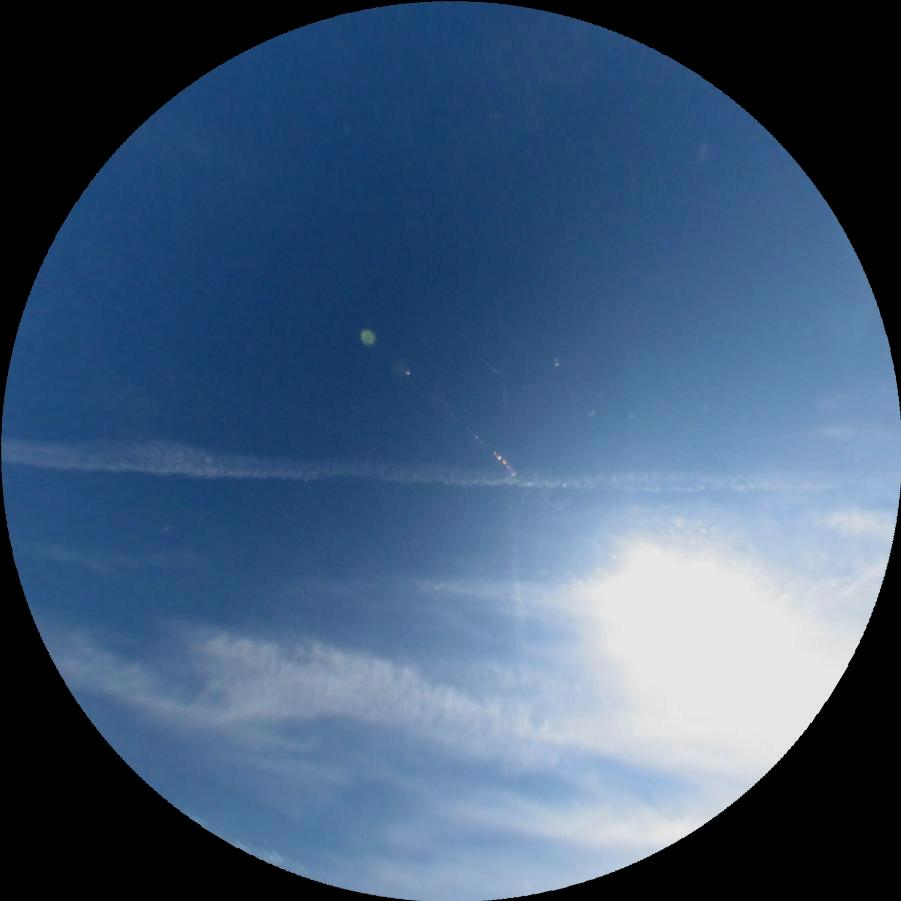contrail veryold: (0, 428, 844, 510), (506, 542, 530, 667)
contrail young: (476, 353, 501, 376)
sun: (574, 538, 859, 775)
